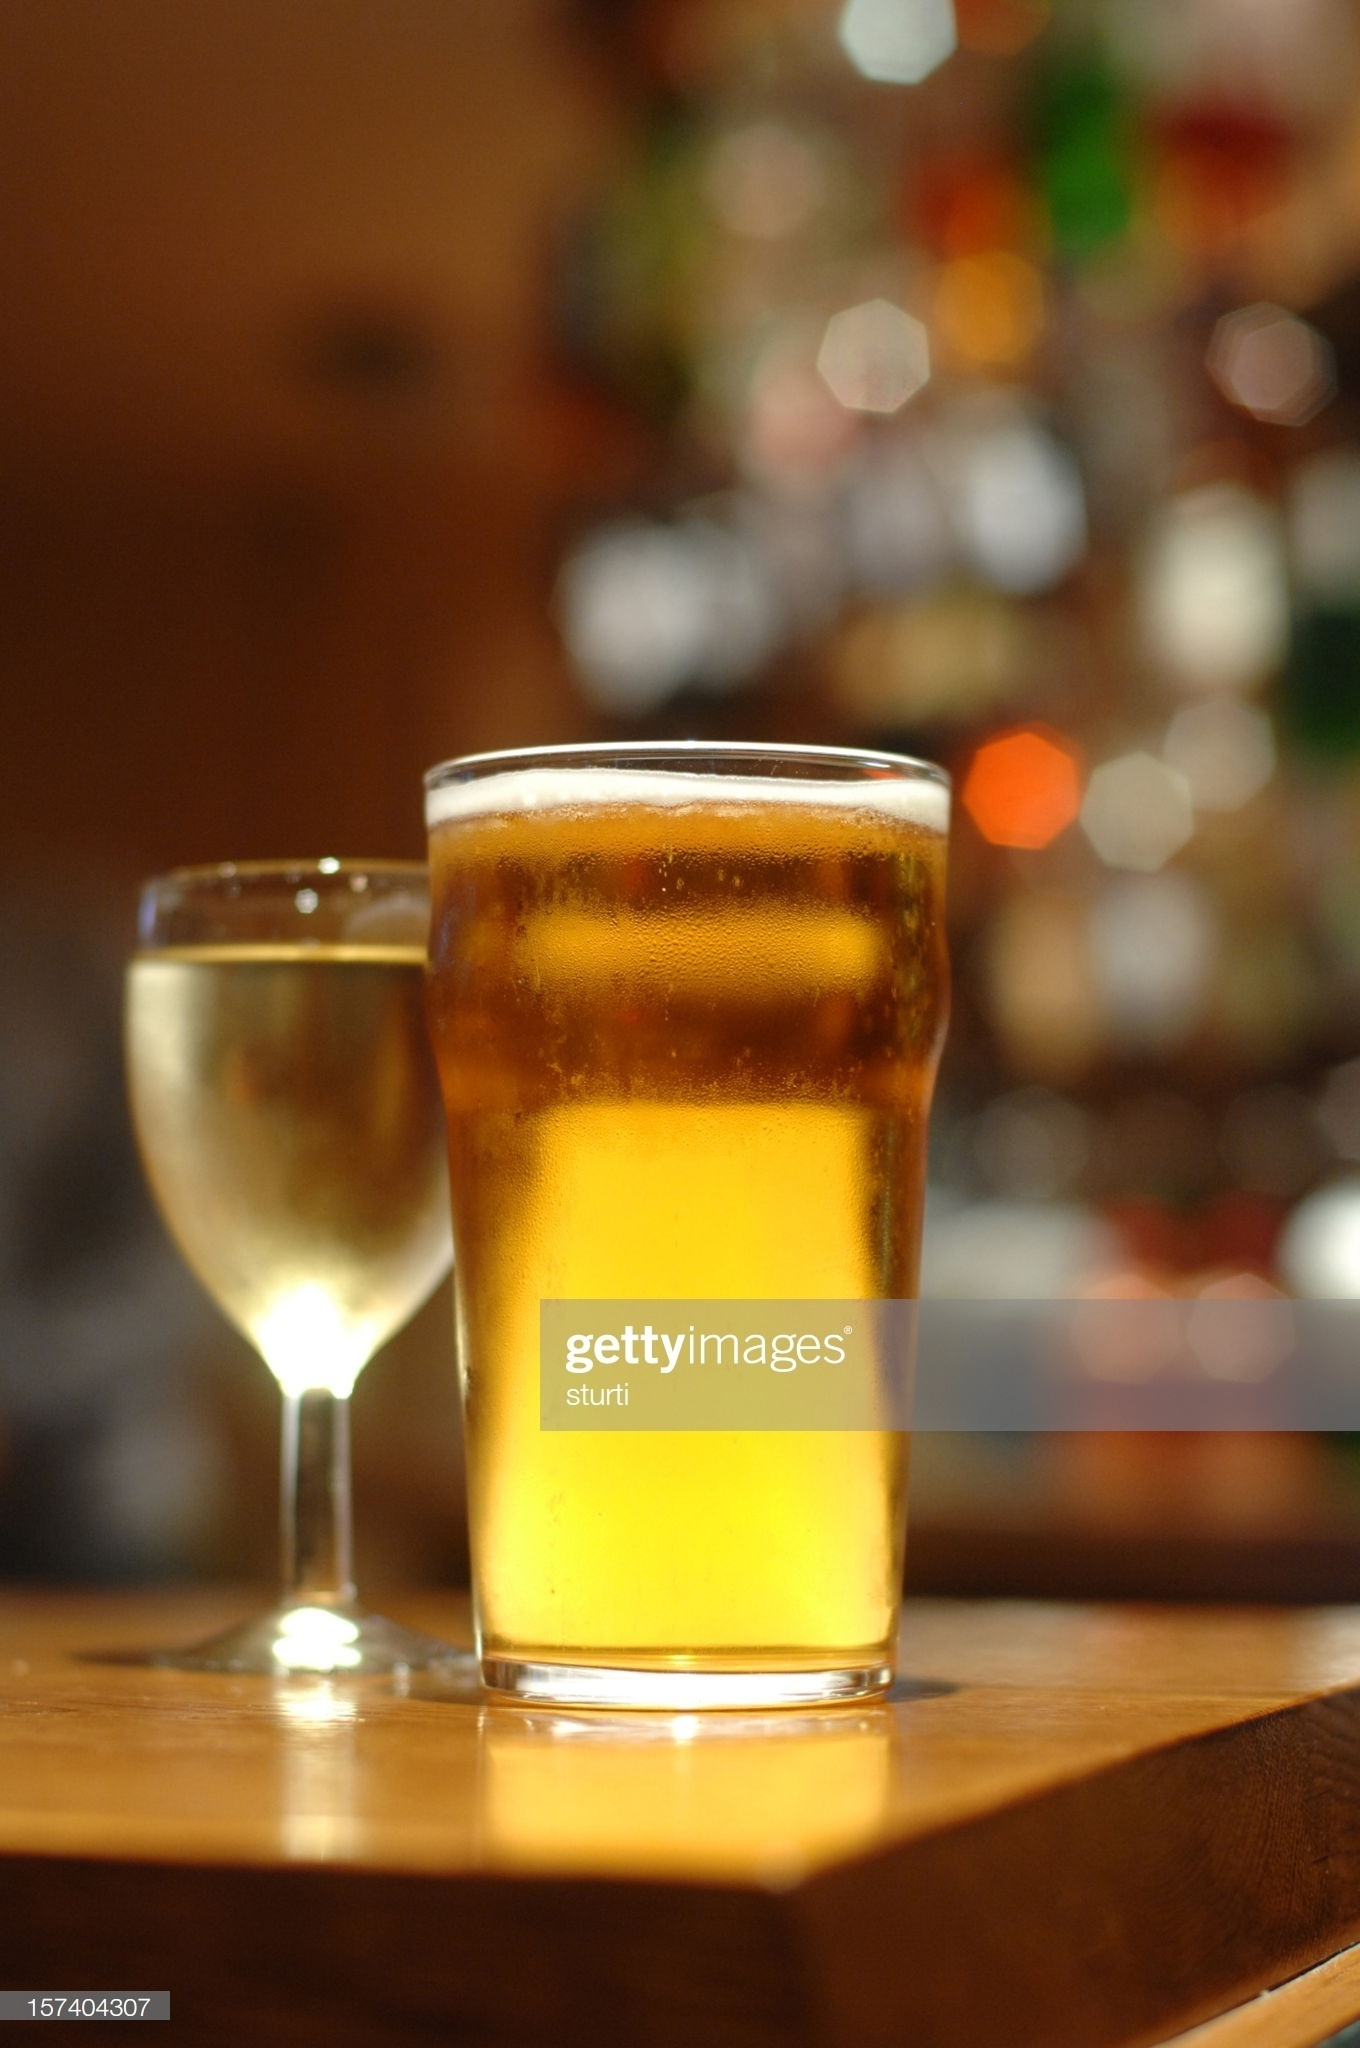whiskey: (439, 724, 971, 1701)
